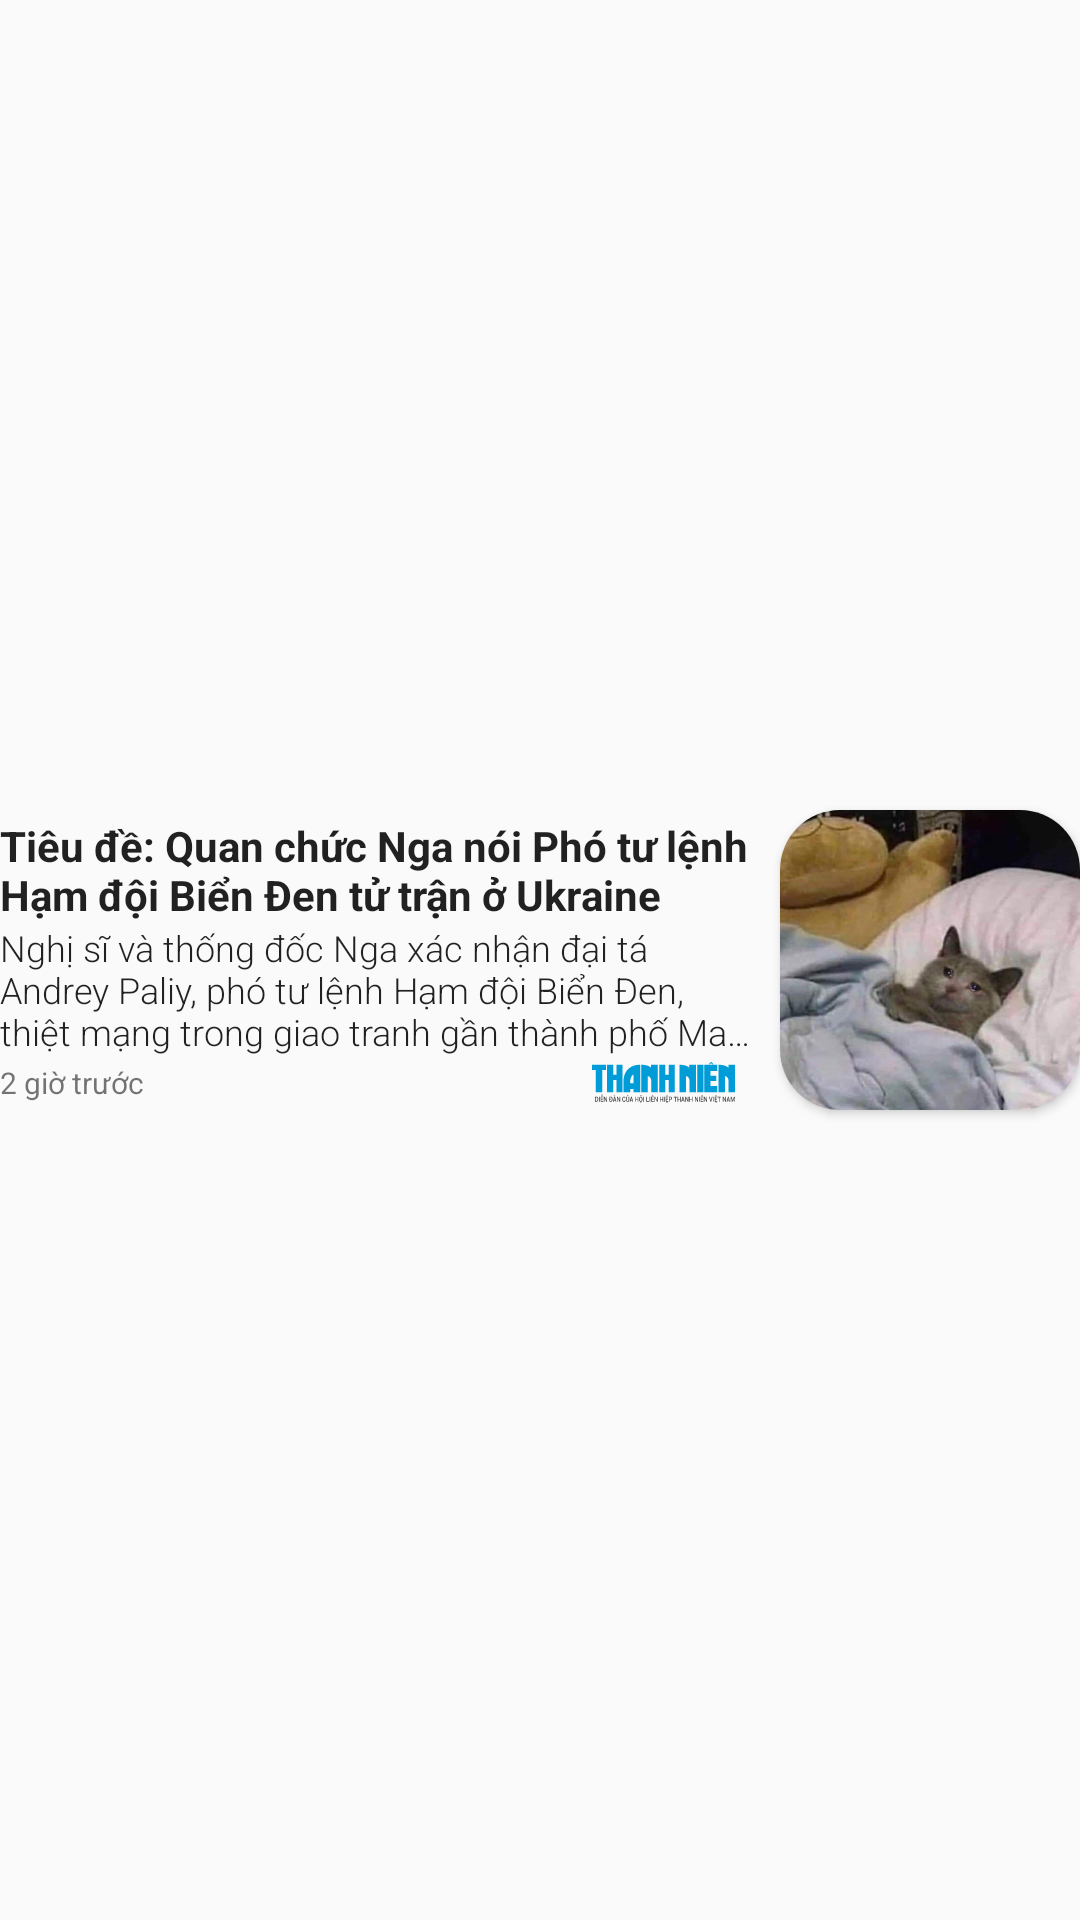

Where to tap for icons on this 1080 x 1920 app screen, as [x,y]:
cat: [930,960]
